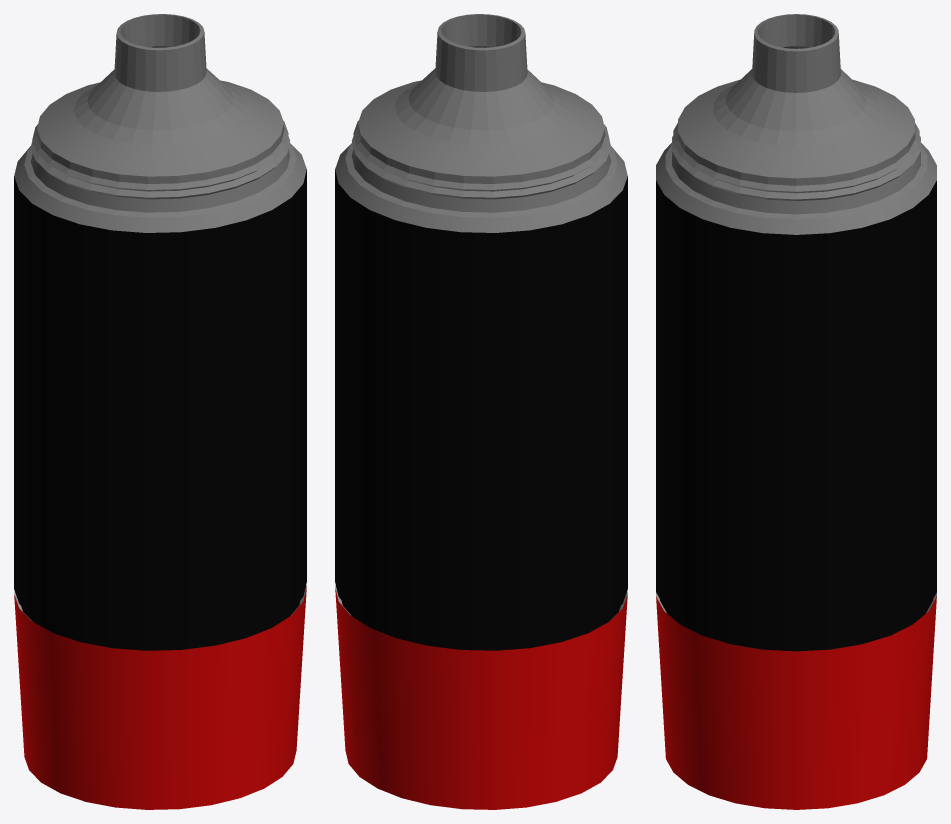
File: Thermos.v1.fbx
3 renders of one model, left to right at view 1: azimuth 30°, elevation 25°; view 2: azimuth 150°, elevation 25°; view 3: azimuth 270°, elevation 25°, orthographic.
Parts seen in each view (by area): view 1: pCylinder1; view 2: pCylinder1; view 3: pCylinder1.
Boxes of the visible parts, x1,y1,x2,y2 form: pCylinder1: [14, 14, 306, 809]; pCylinder1: [335, 14, 627, 809]; pCylinder1: [656, 14, 936, 809].
Bounding box in the file's own units: 0.1917 × 0.5167 × 0.1826.
